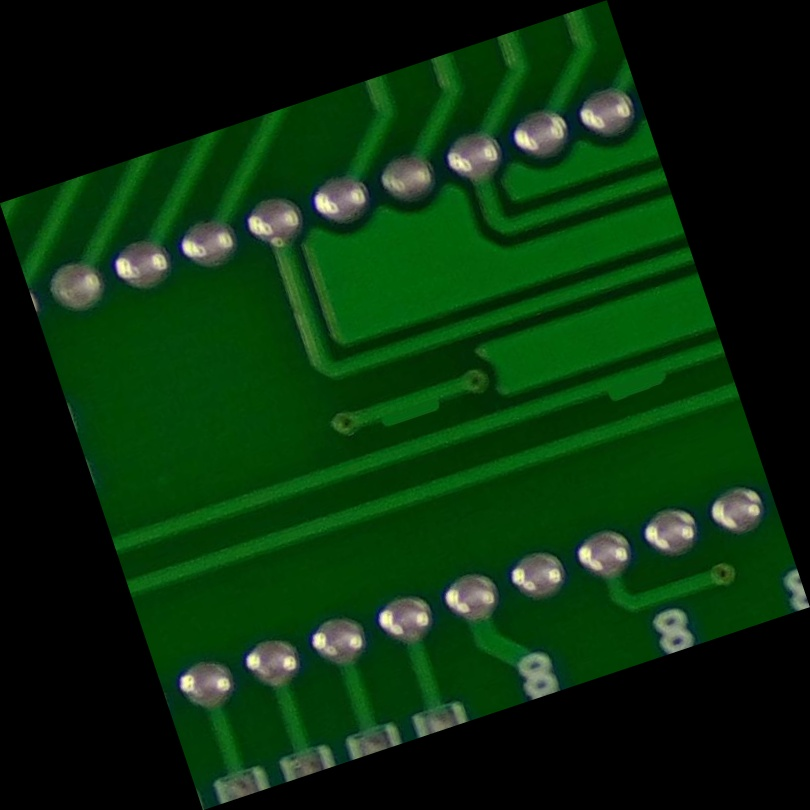spur: (359, 364, 452, 446)
